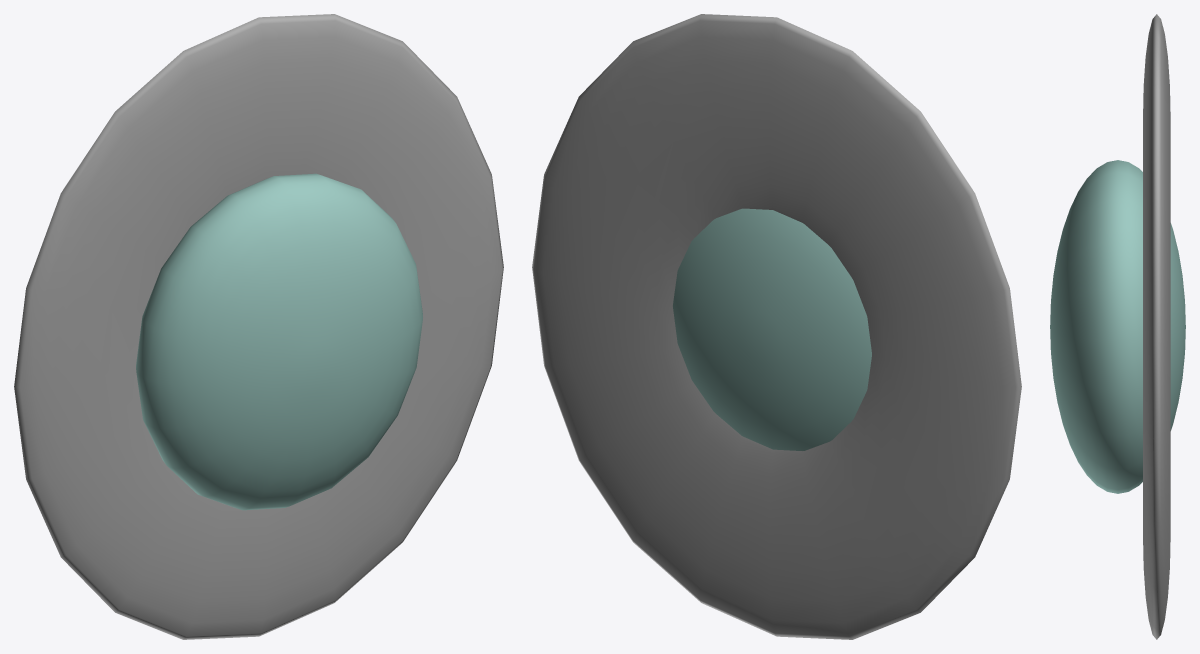
Rendered from boton4.fbx.
The picture shows the model from 3 angles, left to right: view 1: azimuth 30°, elevation 25°; view 2: azimuth 150°, elevation 25°; view 3: azimuth 270°, elevation 25°; orthographic projection. The views are drawn at different scales.
Visible parts, largest first — view 1: polySurface61; view 2: polySurface61; view 3: polySurface61.
Boxes of the visible parts, <box> form: polySurface61: <box>14,14,503,639</box>; polySurface61: <box>532,14,1021,639</box>; polySurface61: <box>1050,14,1185,639</box>.
Bounding box in the file's own units: 6.99 × 8.45 × 1.78.
